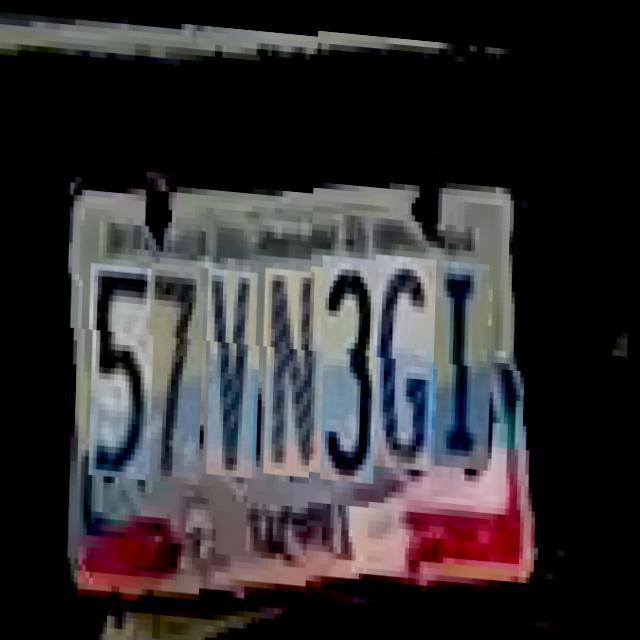3: (323, 255, 381, 482)
5: (92, 261, 156, 477)
7: (152, 260, 206, 480)
G: (376, 252, 442, 468)
I: (437, 257, 495, 467)
N: (266, 262, 328, 472)
V: (210, 264, 264, 473)
